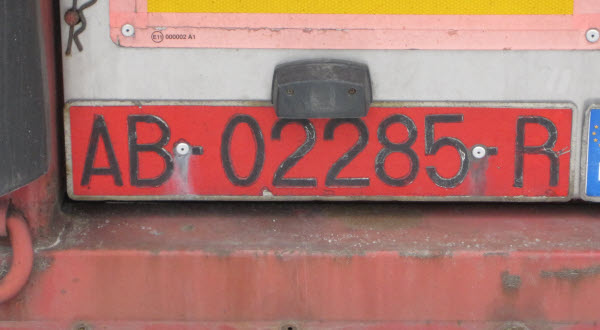license_plate: (64, 101, 573, 201)
